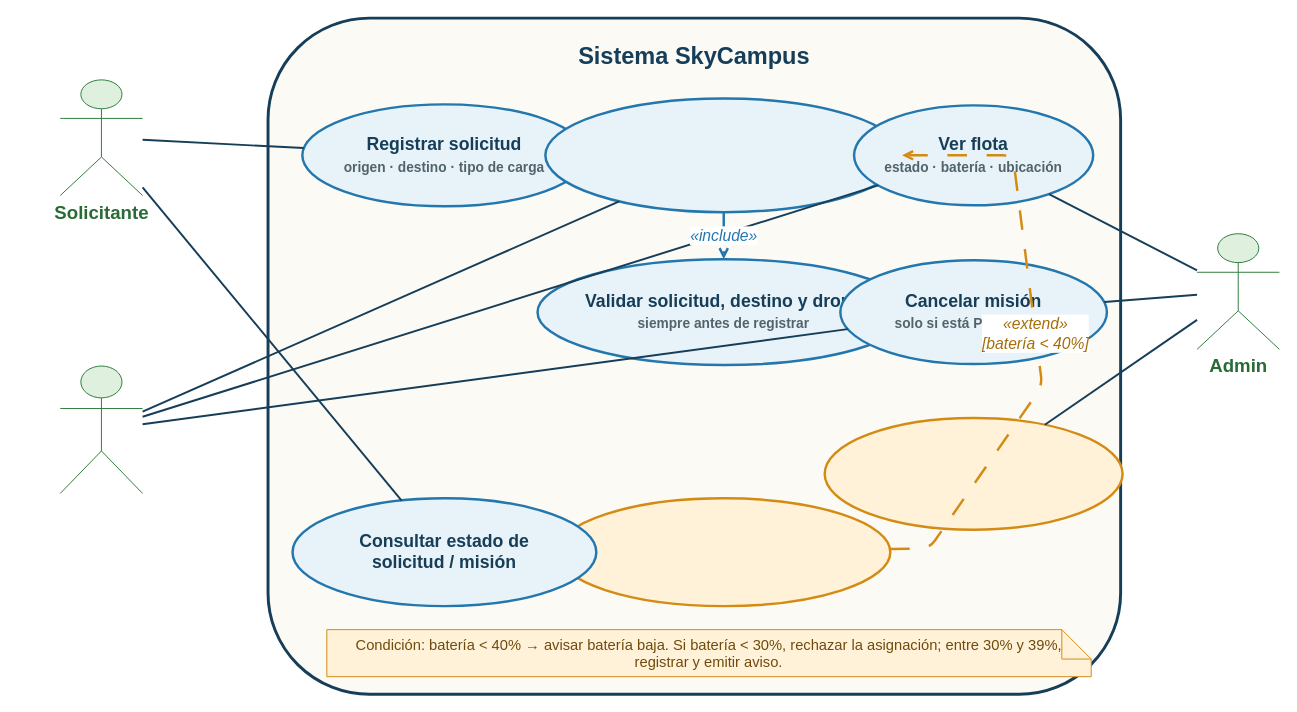
Image size: 1297x712. Some labels were removed from this diagram. The centre of each missing label's shape, as x and y in pixels:
Administrar flota y catálogo de ubicaciones: point (973, 473)
Informar batería baja aviso complementario: point (723, 552)
Operador de drones: point (101, 429)
Registrar misión de reparto SC-01 · asignación manual del drone: point (723, 155)
